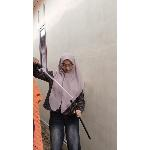Pedang: (34, 60, 78, 100)
